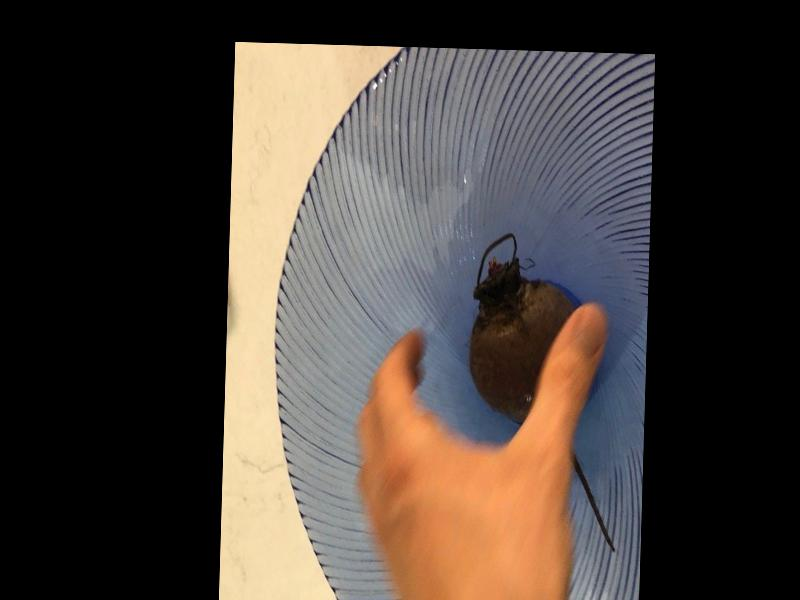Beet: (463, 232, 623, 550)
